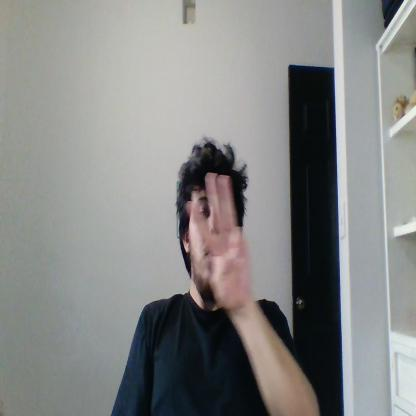W: (185, 172, 250, 308)
